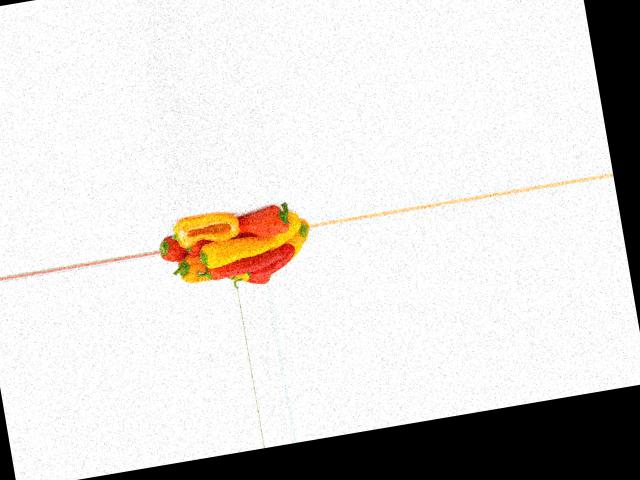bell_pepper: (157, 232, 204, 268)
